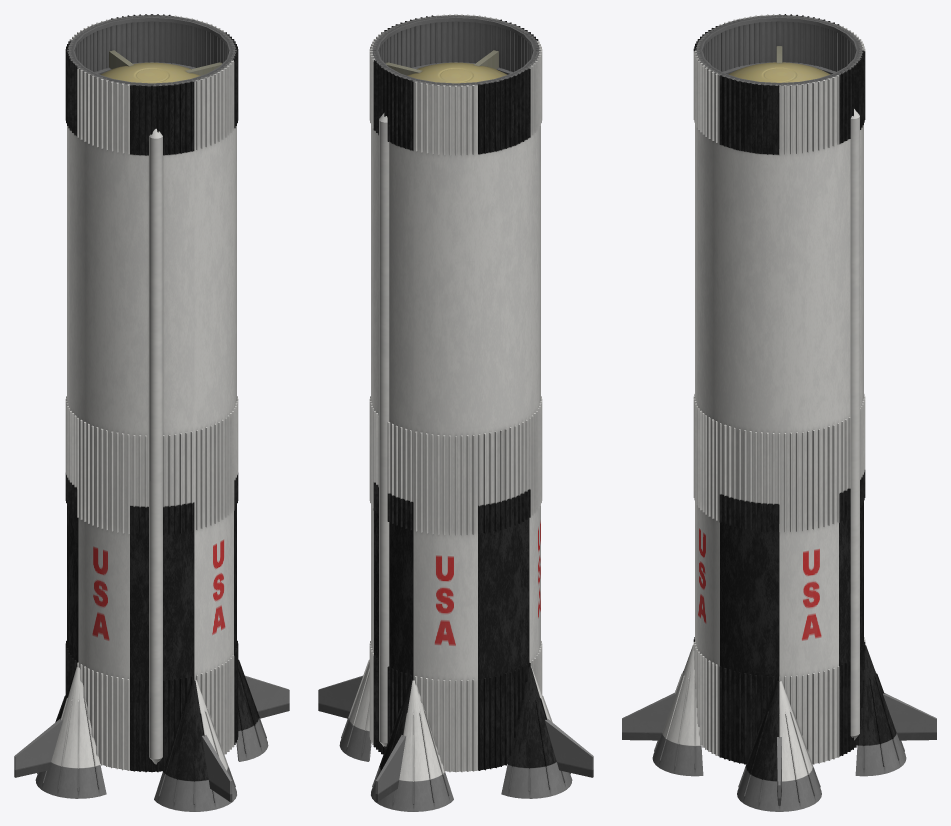
Rendered from ksprocket.fbx.
3 renders of one model, left to right at view 1: azimuth 30°, elevation 25°; view 2: azimuth 150°, elevation 25°; view 3: azimuth 270°, elevation 25°, orthographic.
Parts seen in each view (by area): view 1: tank.008, bits.006, fairing.003; view 2: tank.008, bits.006, fairing.003; view 3: tank.008, fairing.003, bits.006.
Part boxes in pixels (x1,y1,x2,y2): tank.008: [65, 14, 238, 772]; bits.006: [67, 14, 236, 764]; fairing.003: [14, 659, 289, 811]; tank.008: [369, 14, 542, 772]; bits.006: [371, 14, 540, 746]; fairing.003: [318, 659, 593, 811]; tank.008: [693, 14, 865, 764]; fairing.003: [622, 645, 936, 811]; bits.006: [695, 15, 863, 740].
Size of the model in its own units: 1885 by 4676 by 1885.
